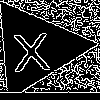X: (10, 23, 51, 72)
